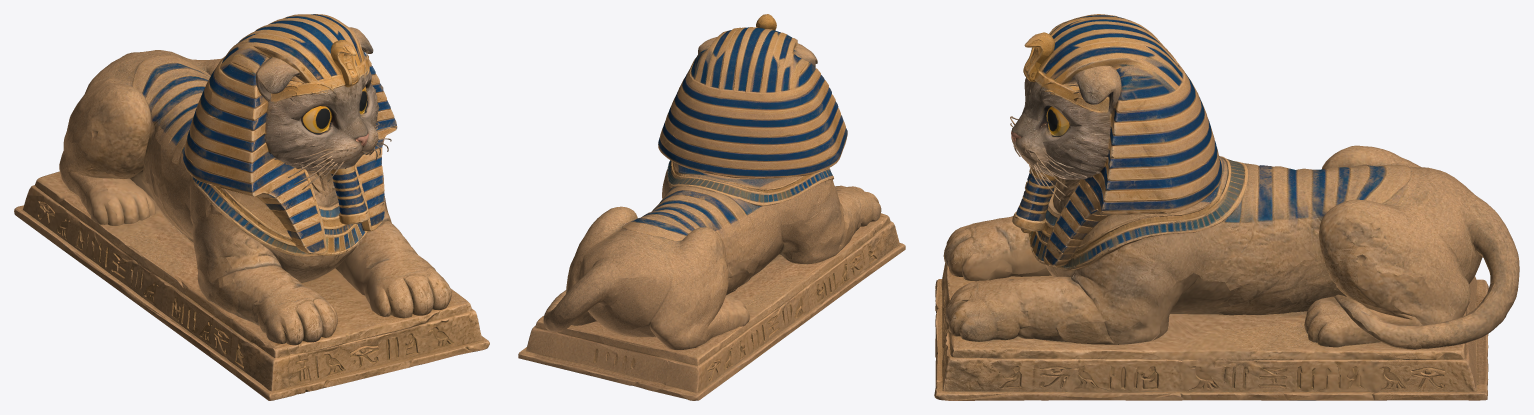
3 views of the same model, side by side, from view 1: azimuth 30°, elevation 25°; view 2: azimuth 150°, elevation 25°; view 3: azimuth 270°, elevation 25° (orthographic). The views are drawn at different scales.
Parts seen in each view (by area): view 1: Mesh_0; view 2: Mesh_0; view 3: Mesh_0.
Boxes of the visible parts, box(x1,y1,x2,y2) form: Mesh_0: box(14, 14, 489, 400); Mesh_0: box(518, 14, 905, 400); Mesh_0: box(934, 14, 1519, 400).
Size of the model in its own units: 0.8955 by 1.13 by 1.9.
Materials: 1 (1 with a texture image).
